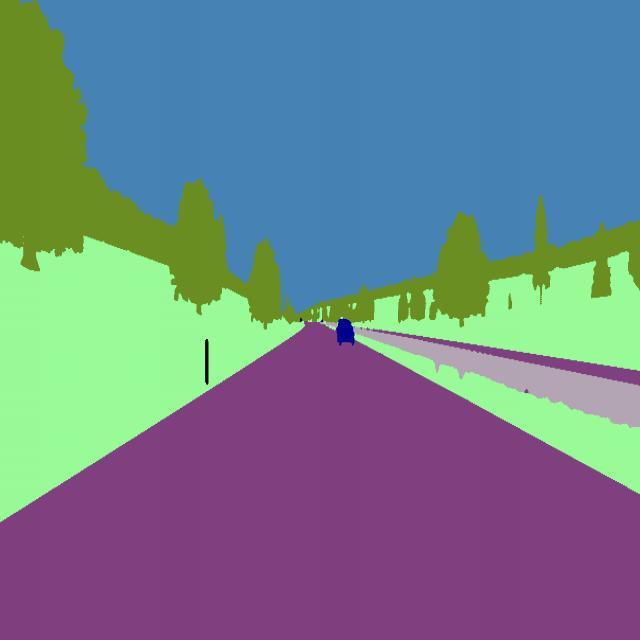safe: (332, 316, 360, 354)
